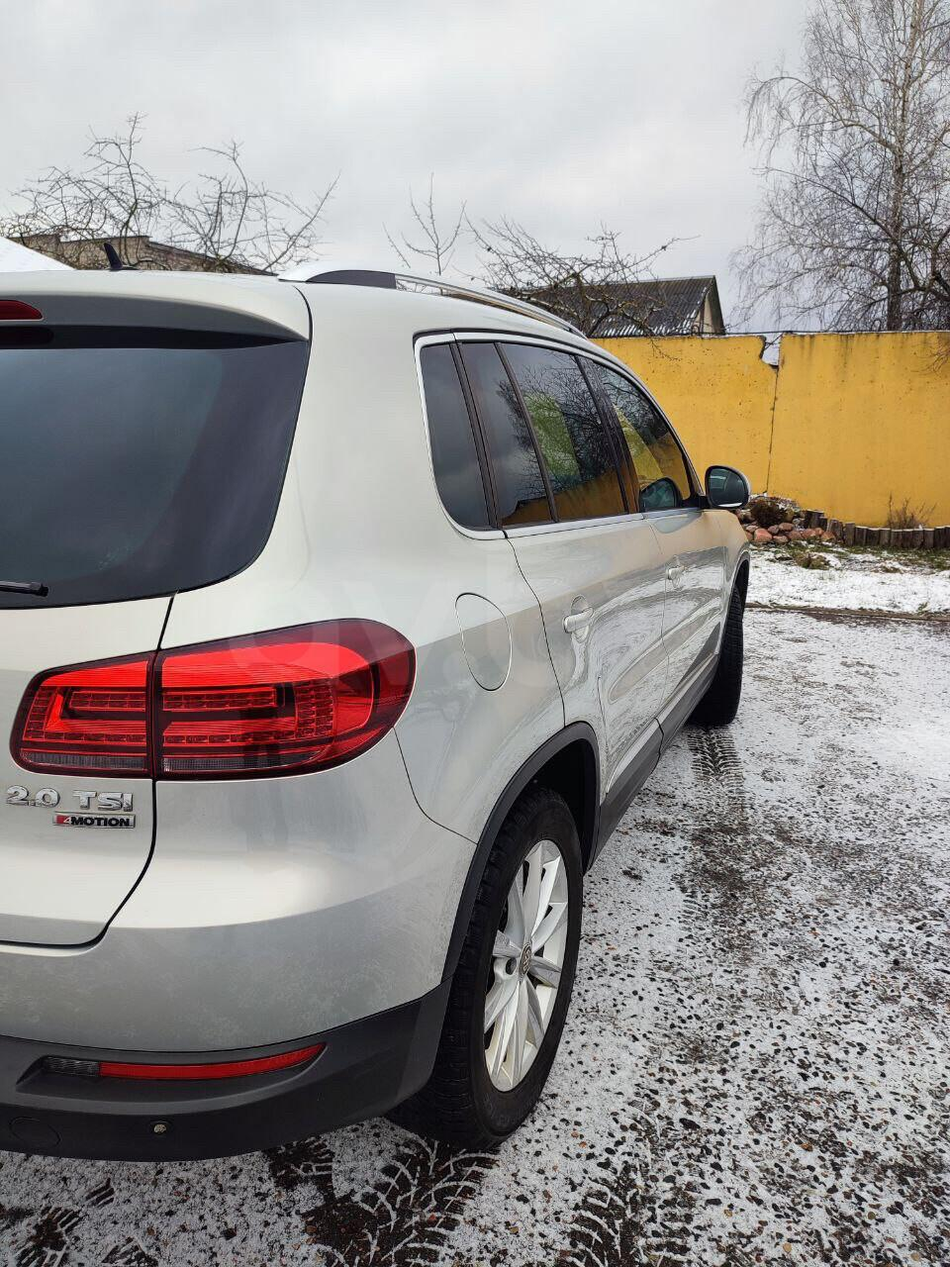Tiguan_2011-2018: (0, 219, 772, 1176)
